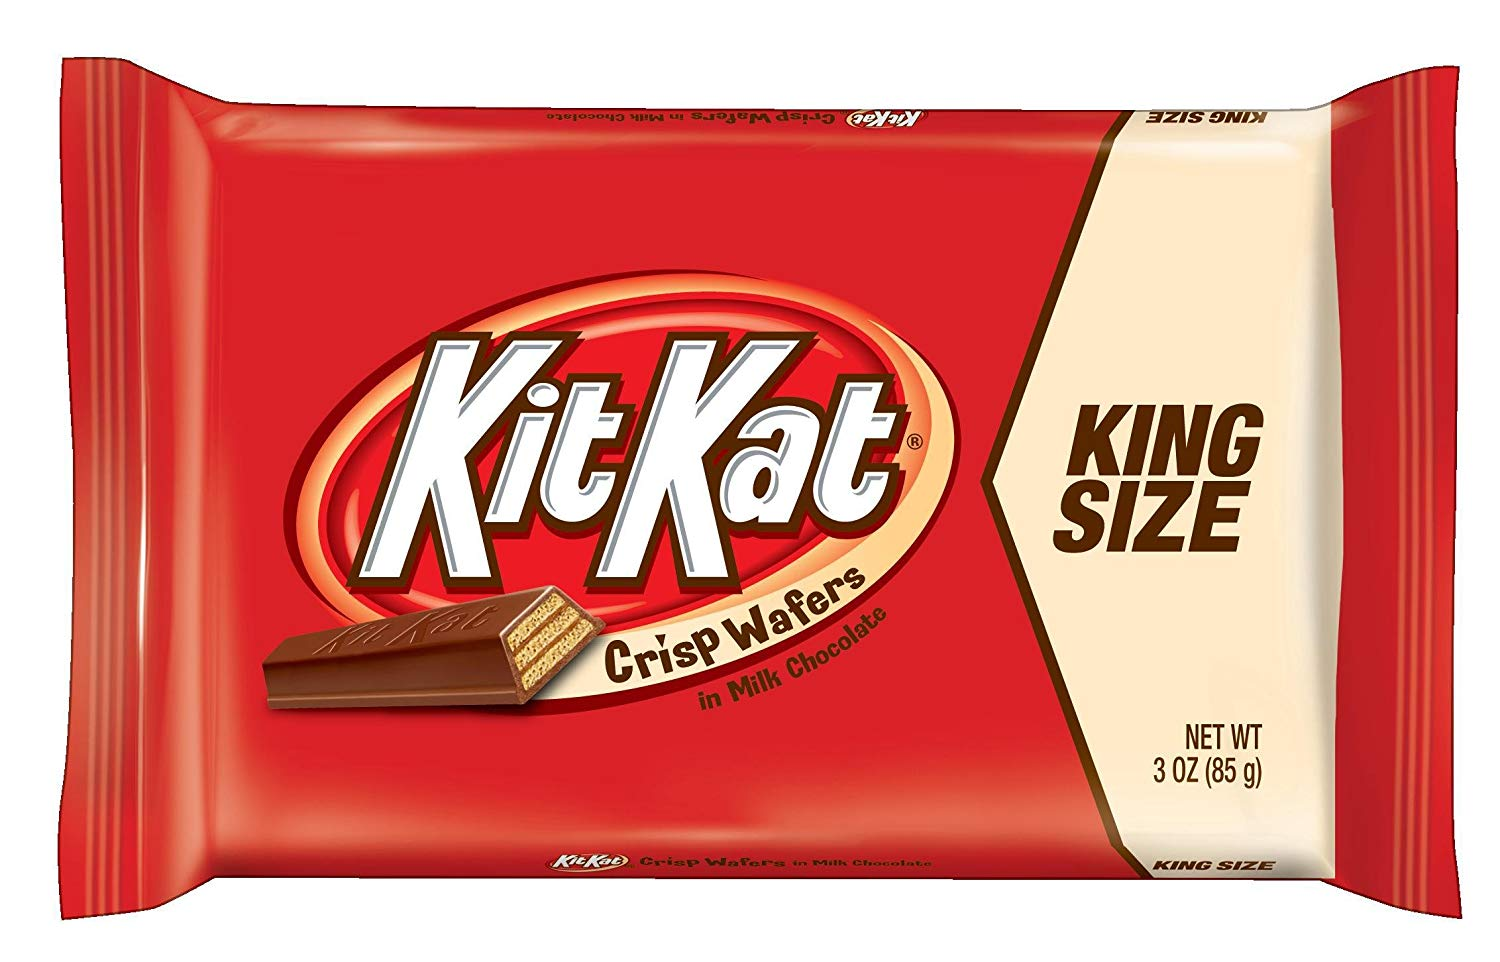kitkat: (57, 56, 1466, 927)
